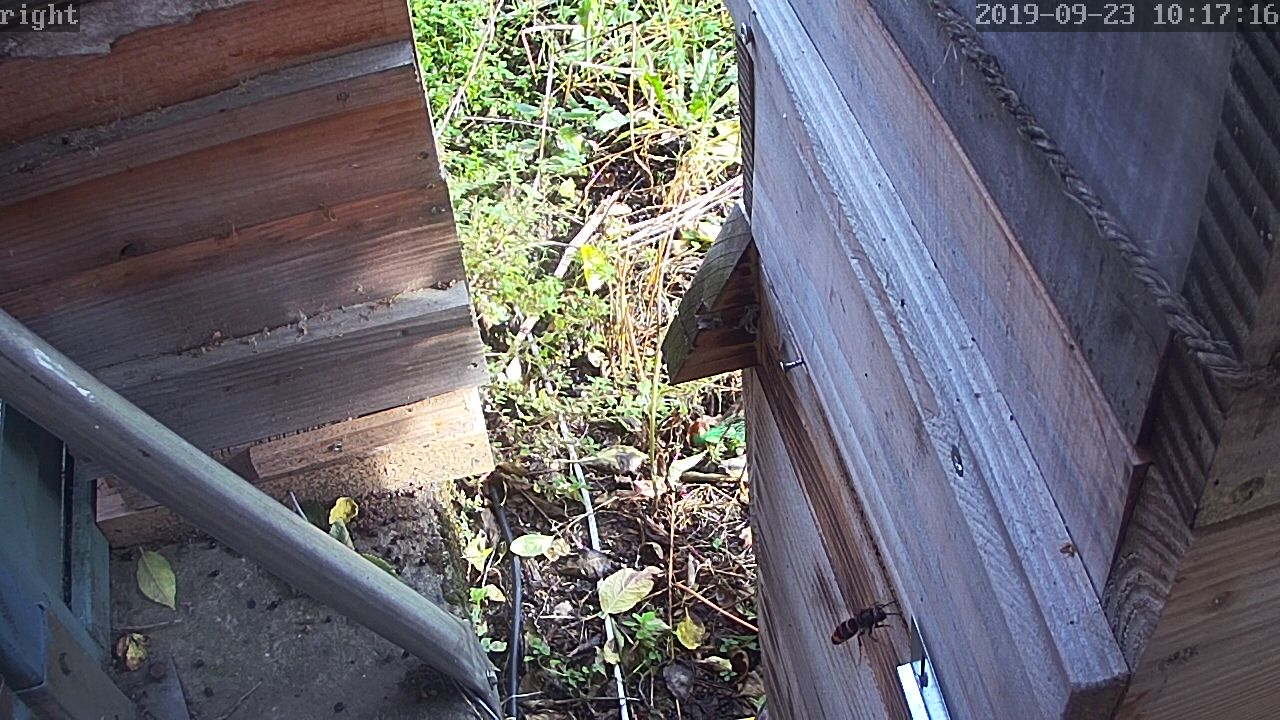hornet: (826, 599, 898, 648)
